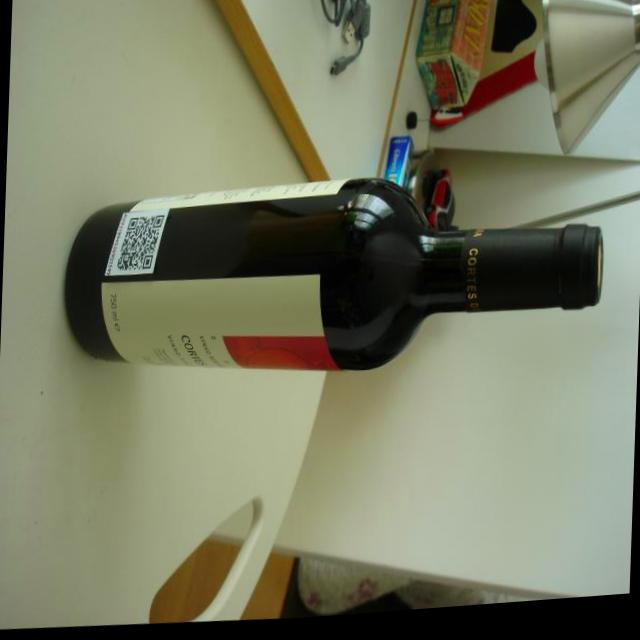qrcode: (117, 217, 165, 273)
